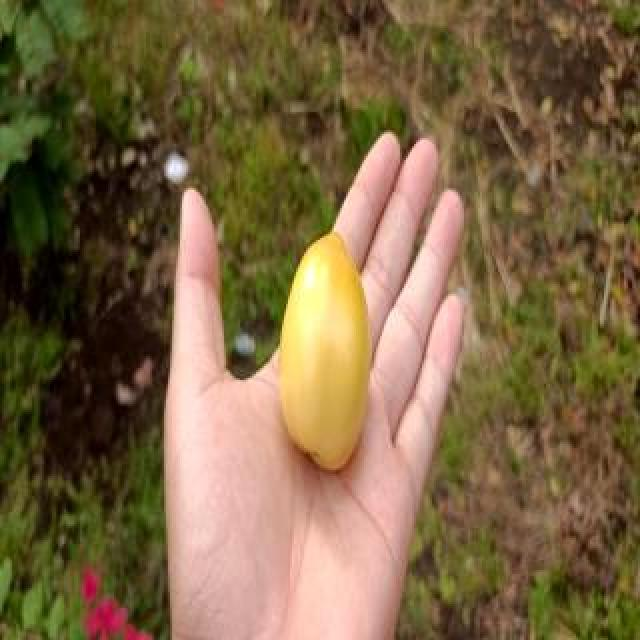Fresh_Tomato: (272, 220, 376, 482)
